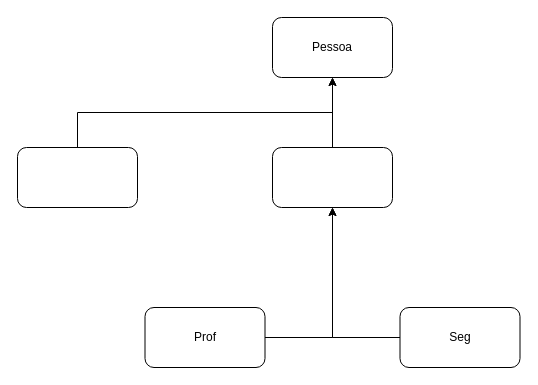
Some shapes in this 538 by 385 pixel diagram are drawn without their labels. The shapes that lost their labels are listed below. From the top down, each one's box as (x1, y1, x2, y2) in pixels, then its label:
(16, 146, 138, 208): Aluno
(272, 146, 392, 208): Funcionario
